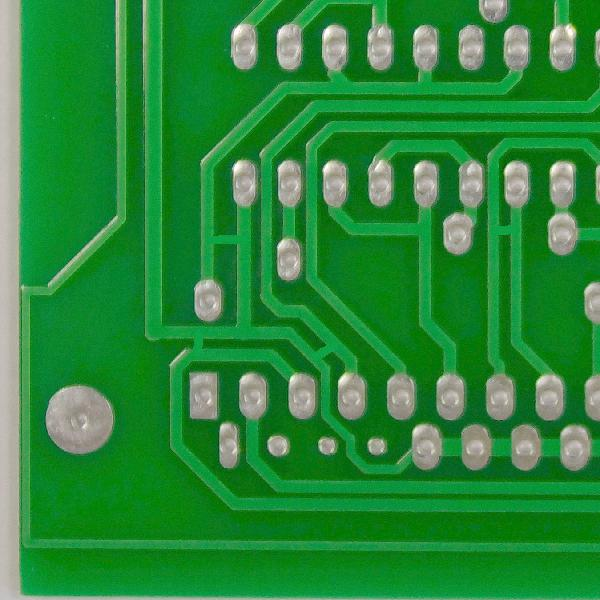short: (194, 224, 255, 256), (298, 331, 346, 370), (179, 320, 215, 362), (481, 215, 526, 246)
